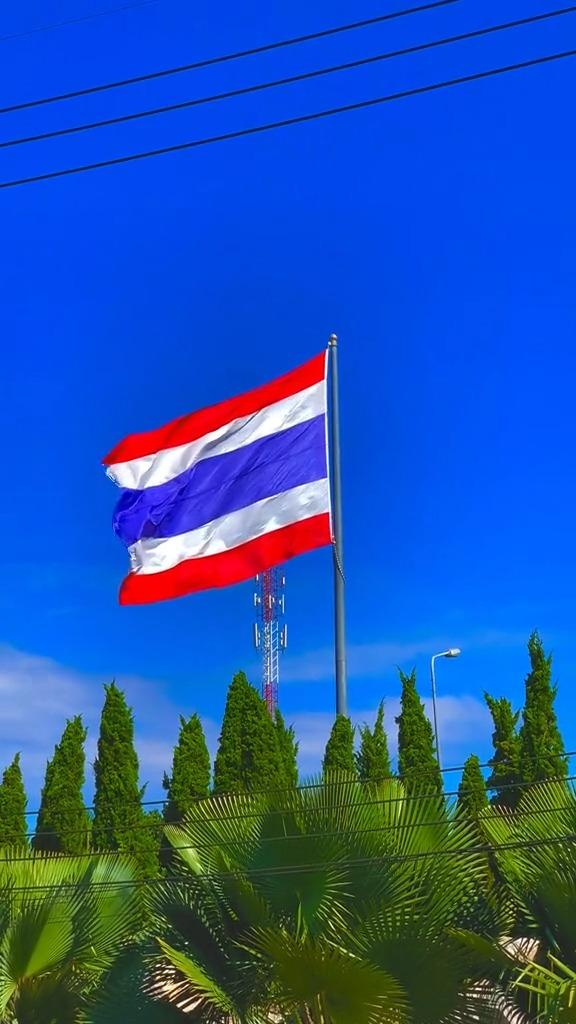Thailand: (103, 345, 332, 608)
